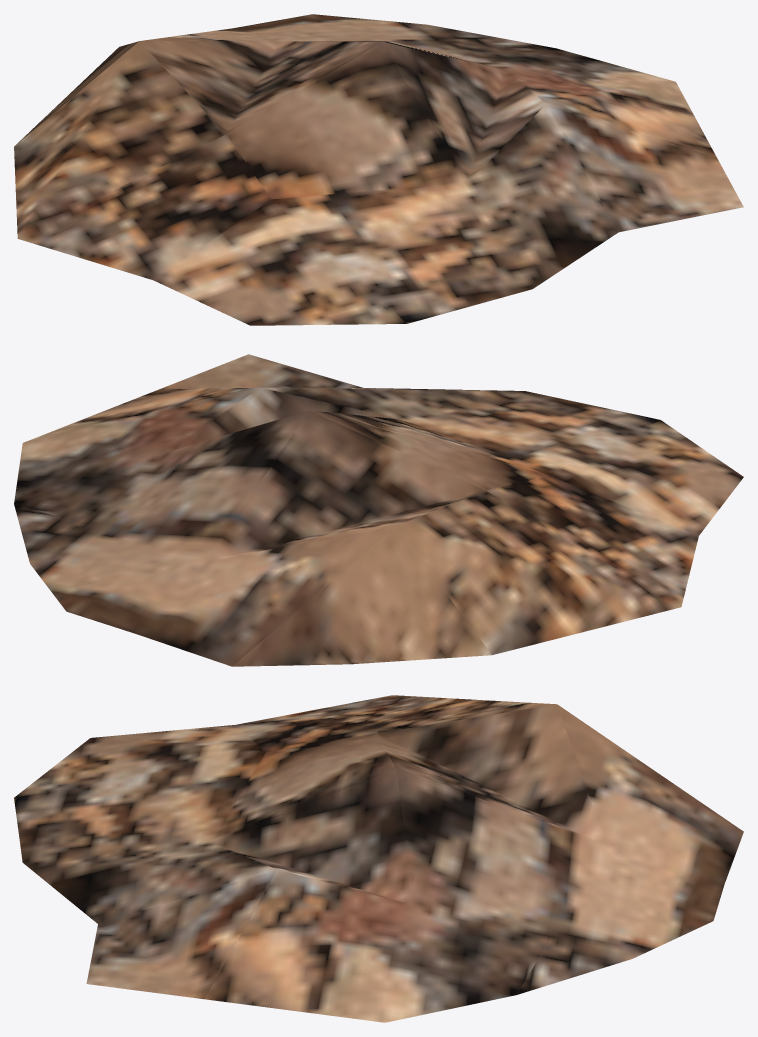
Rendered from piledebris.glb.
The picture shows the model from 3 angles, top to bottom: view 1: azimuth 30°, elevation 25°; view 2: azimuth 150°, elevation 25°; view 3: azimuth 270°, elevation 25°; orthographic projection. The views are drawn at different scales.
Visible parts, largest first — view 1: PileDebris; view 2: PileDebris; view 3: PileDebris.
Boxes of the visible parts, left/top/right/bottom form: PileDebris: left=14, top=14, right=743, bottom=325; PileDebris: left=14, top=354, right=743, bottom=666; PileDebris: left=14, top=695, right=743, bottom=1022.
Size of the model in its own units: 1.96 by 0.314 by 1.84.
1 material, 1 textured.
